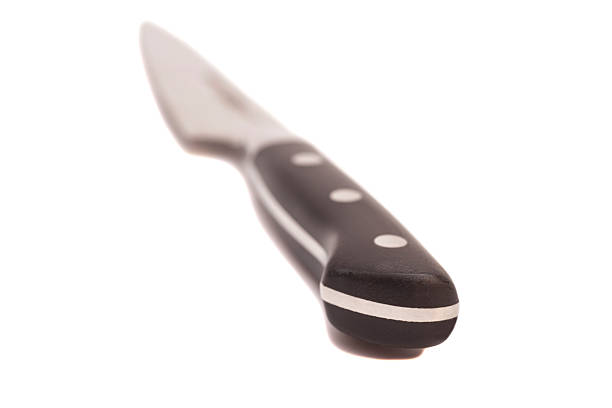knife: (136, 18, 462, 351)
